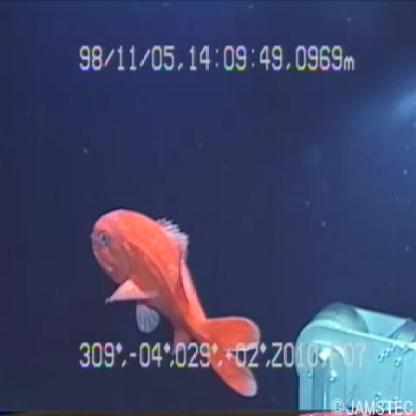Bio: (86, 204, 264, 404)
Rov: (288, 295, 416, 415)
